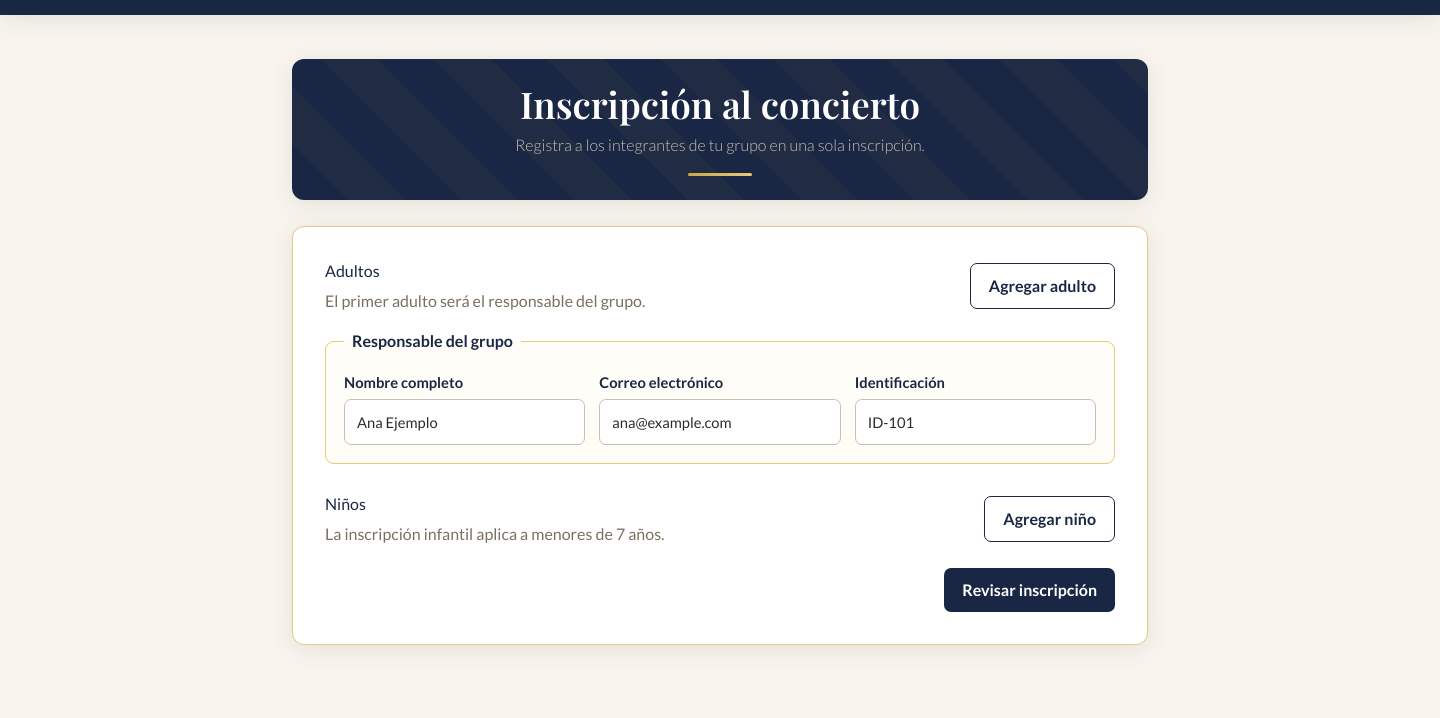
Test case: permite una inscripción pública grupal con consentimiento y muestra todas las boletas
The image size is (1440, 718).
Earlier steps of the test are not shown.
Later steps or results of the test are not shown.
Click the button "Agregar adulto" at (1042, 286), box left=970, top=263, right=1115, bottom=309
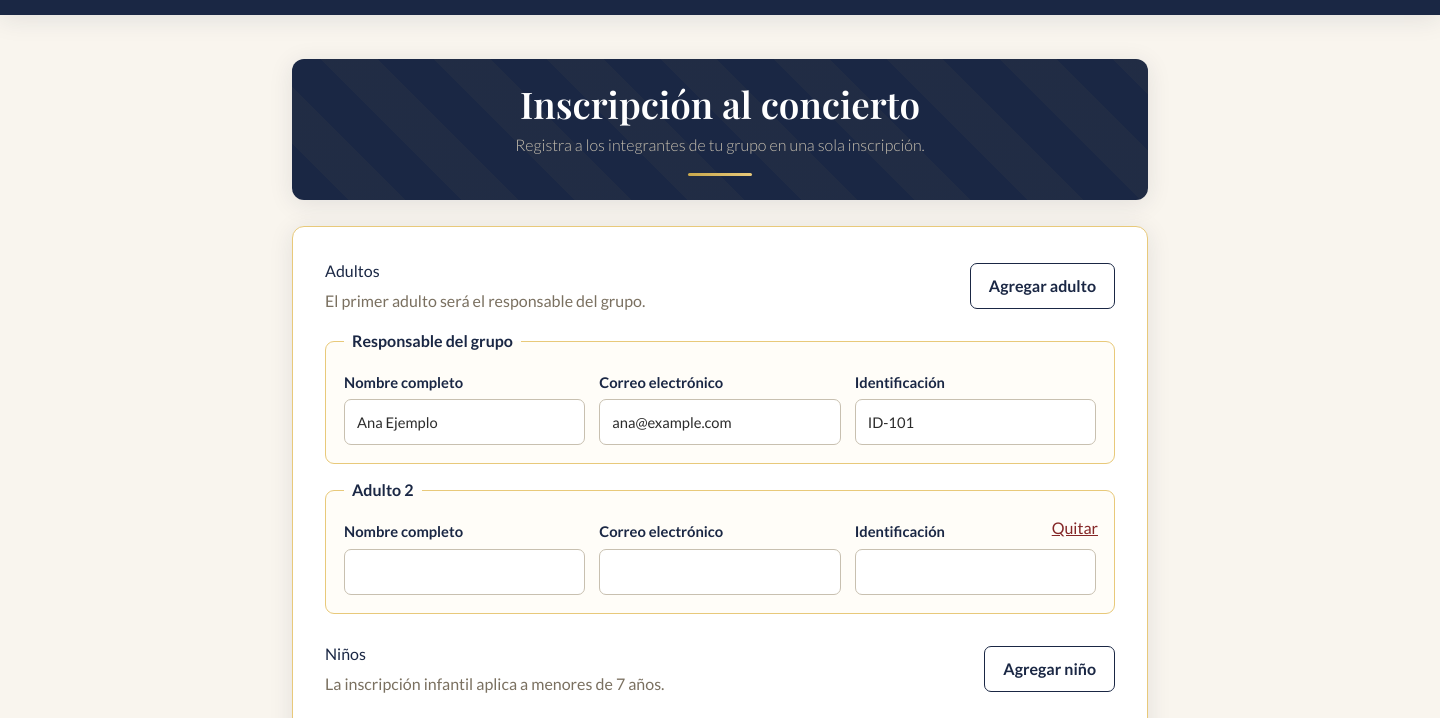
Type "Mario Ejemplo" into the field labelled "Nombre completo" below "Adulto 2" at (465, 572), box left=344, top=548, right=585, bottom=595
Type "mario@example.com" into the field labelled "Correo electrónico" below "Adulto 2" at (720, 572), box left=599, top=548, right=841, bottom=595
Type "ID-102" into the 2nd field labelled "Identificación" at (975, 572), box left=855, top=548, right=1096, bottom=595
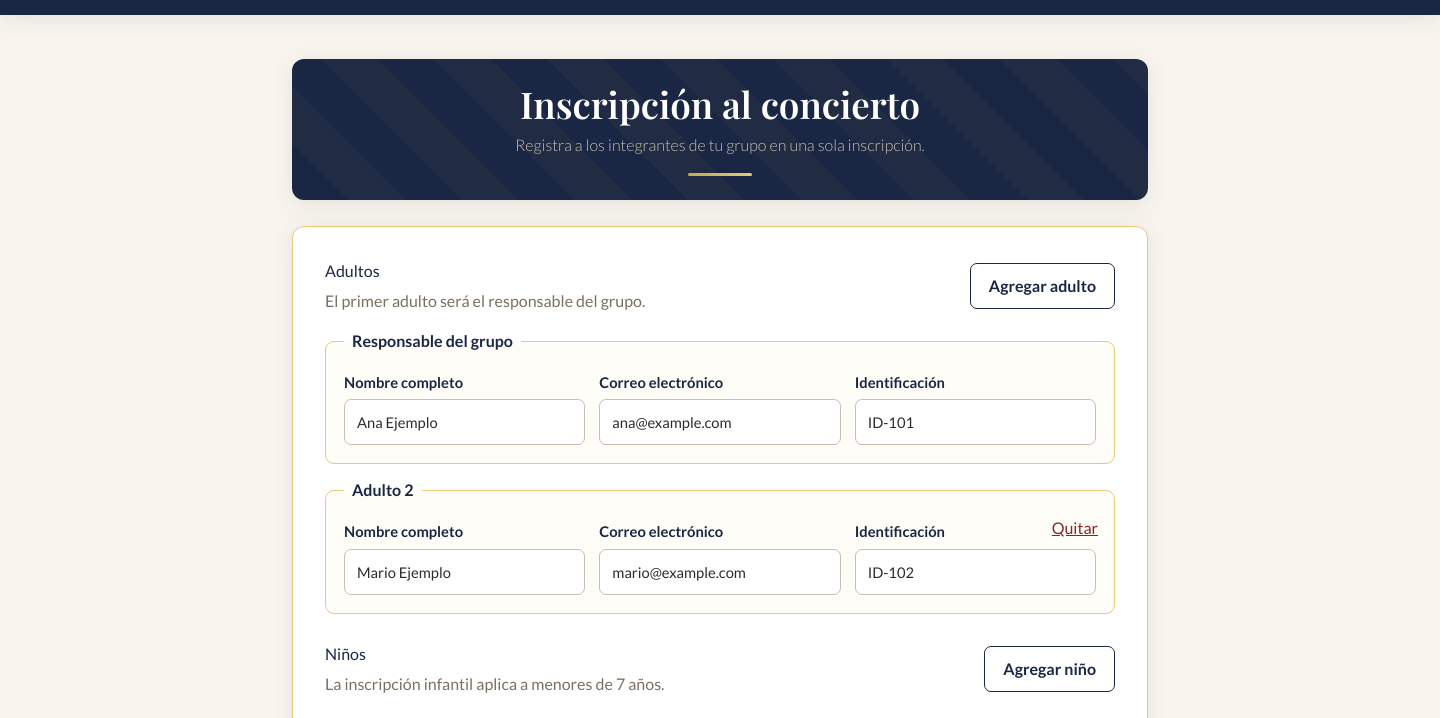
Click the button "Agregar niño" at (1050, 669), box left=984, top=646, right=1115, bottom=692
(page scrolled)
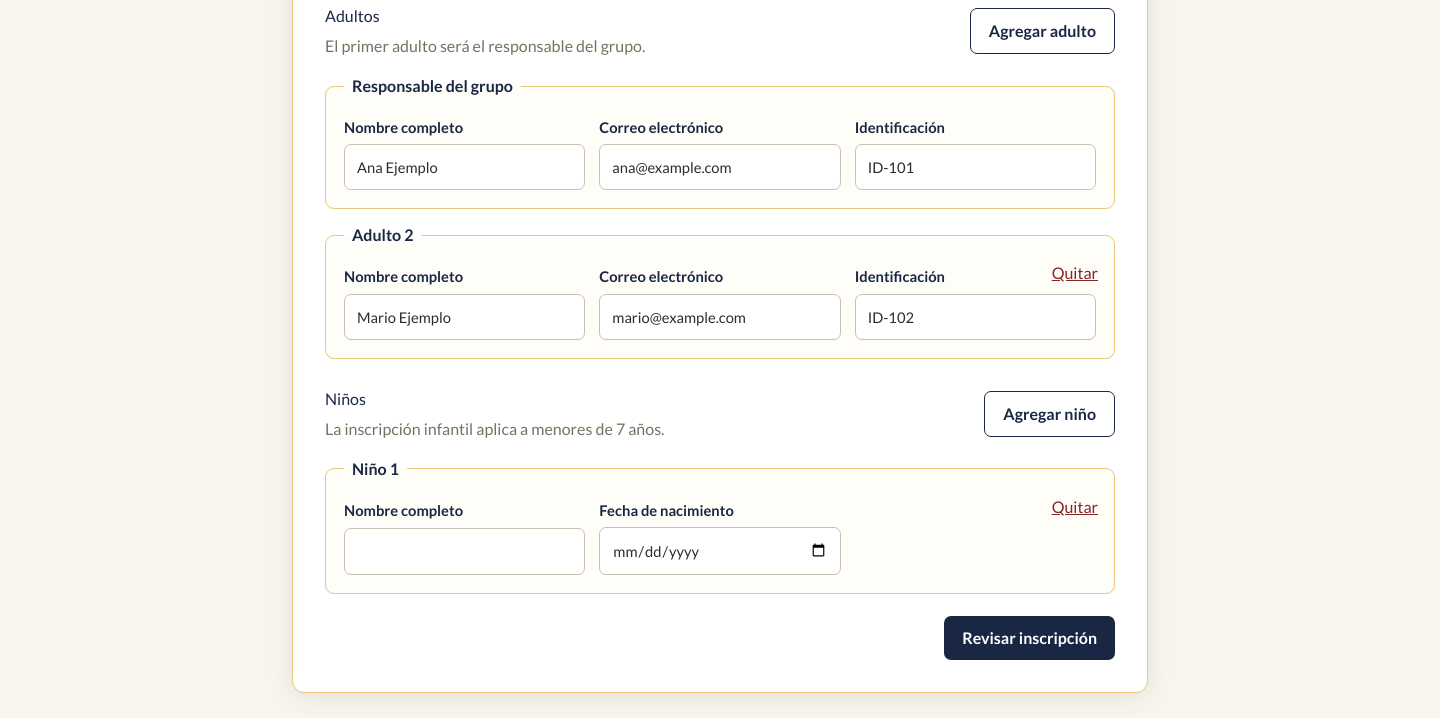
Type "Luis Ejemplo" into the field labelled "Nombre completo" below "Fecha de nacimiento" at (465, 551), box left=344, top=528, right=585, bottom=575
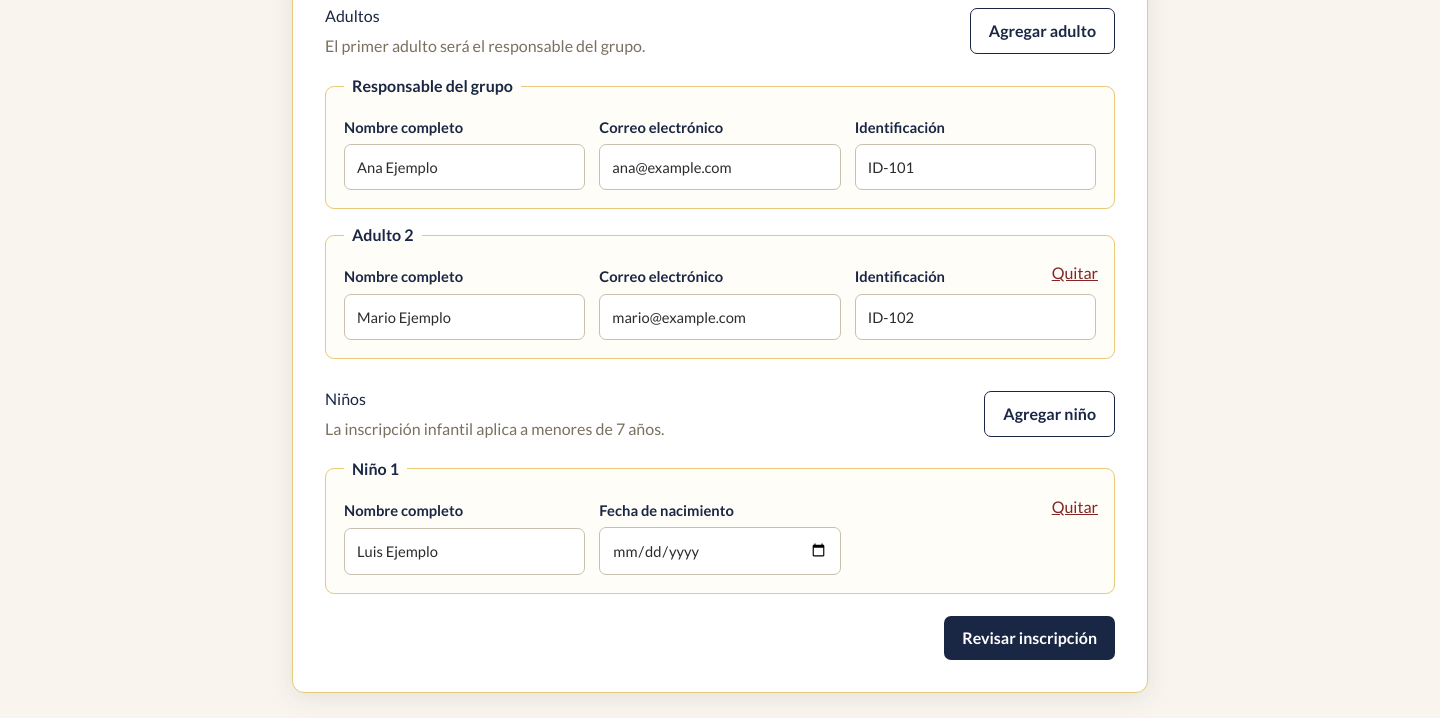
Type "2020-01-01" into the date field labelled "Fecha de nacimiento" at (720, 551), box left=599, top=527, right=841, bottom=575
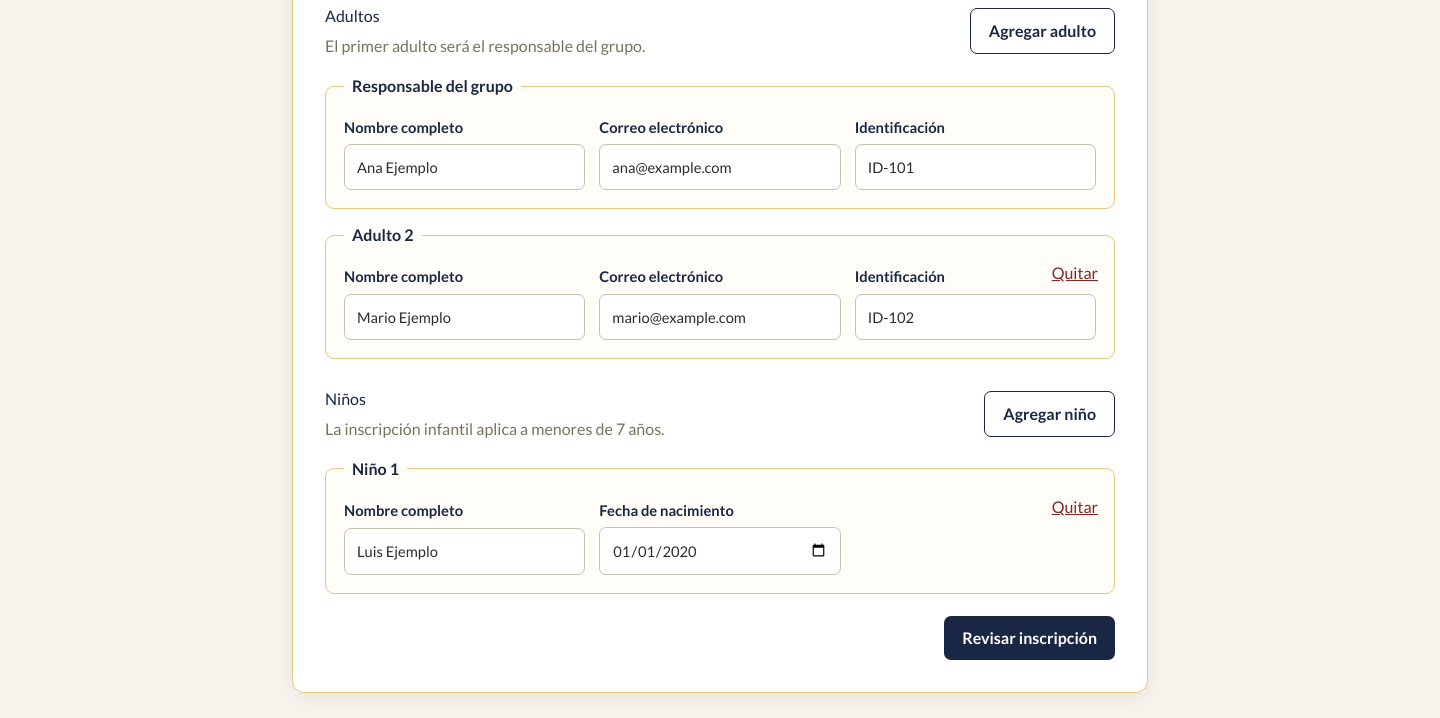
Click the button "Revisar inscripción" at (1030, 638), box left=944, top=616, right=1115, bottom=660
(page scrolled)
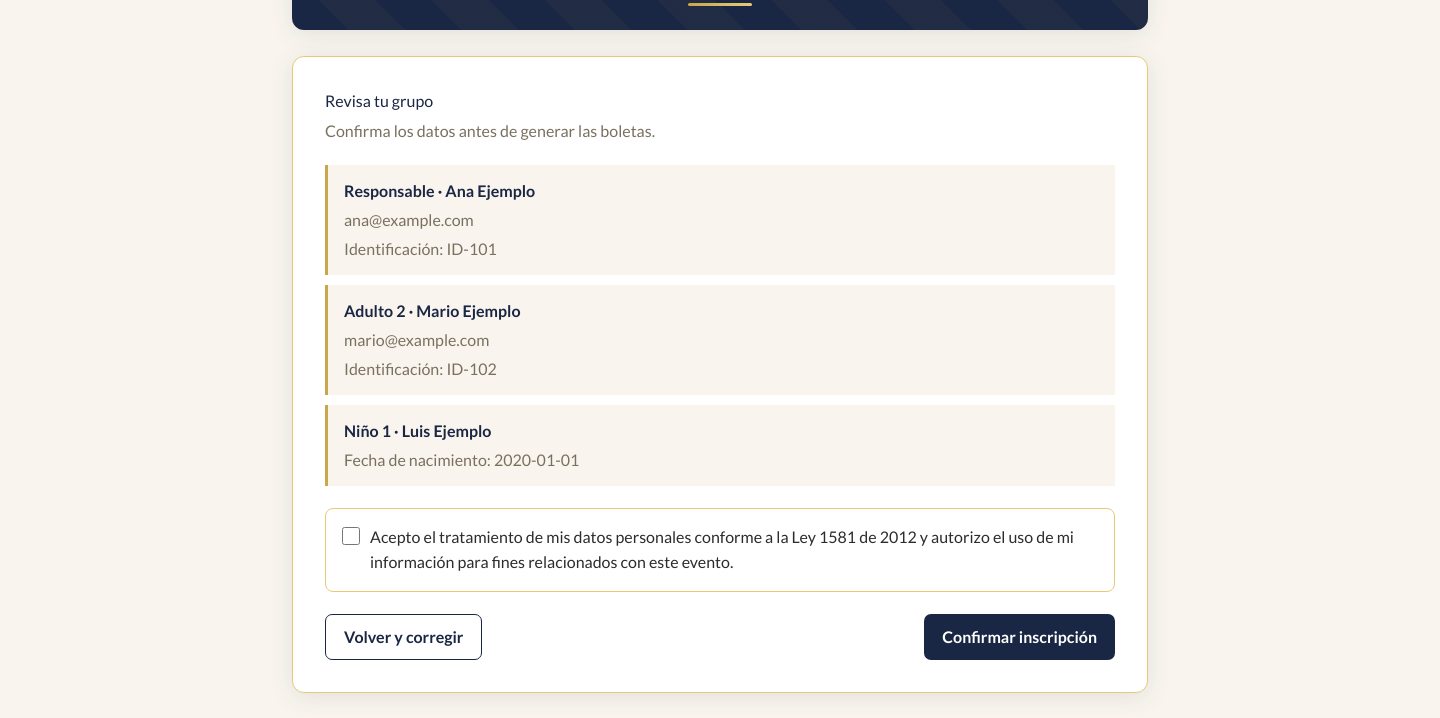
Now the heading "Revisa tu grupo" is shown, box left=325, top=91, right=433, bottom=110
